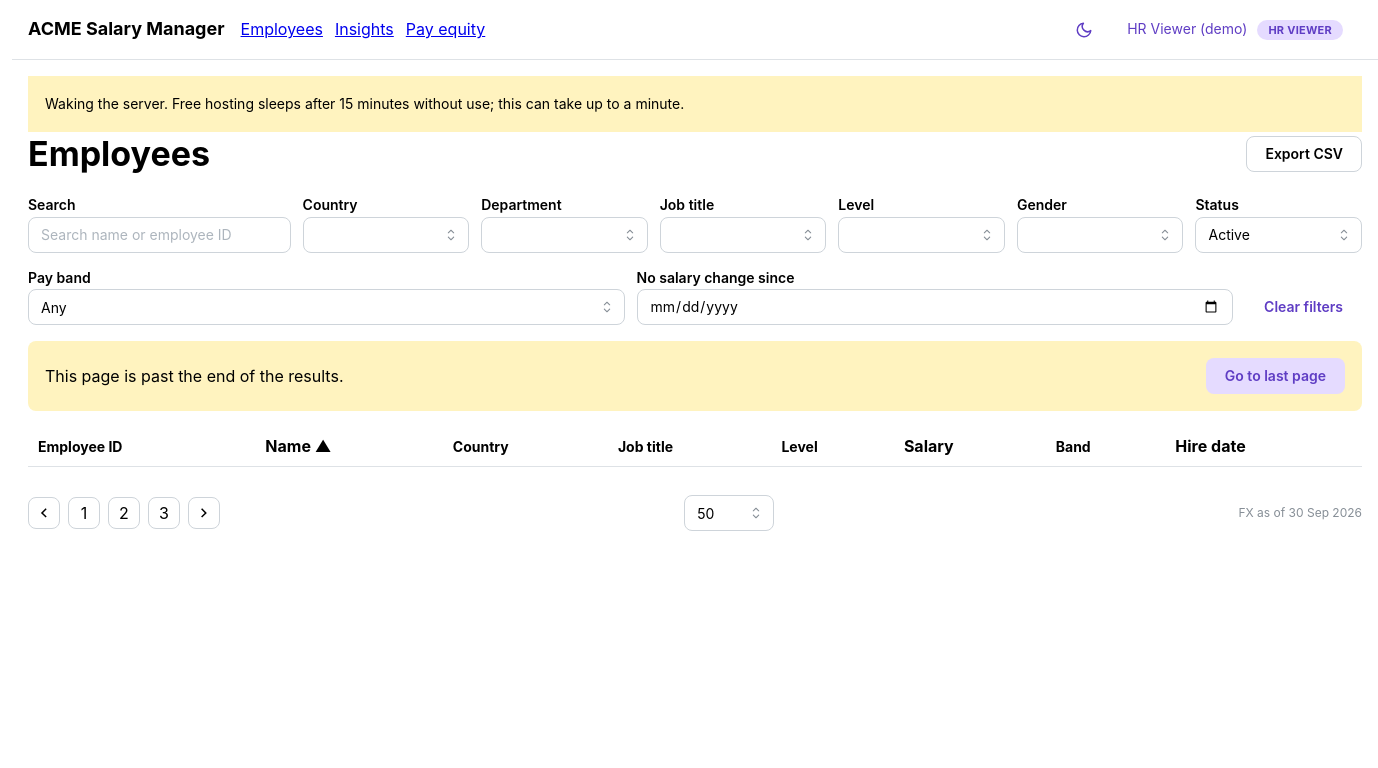
Scenario: employee list page (04 section 8.5) › shows the past-the-end notice with a link to the last page
This screenshot has width=1378, height=768.
Check: the text "This page is past the end of the results." is shown, box 45,364 -> 344,389
Click the button "Go to last page".
click(1275, 376)  # box 1206,358 -> 1345,394
(page scrolled)
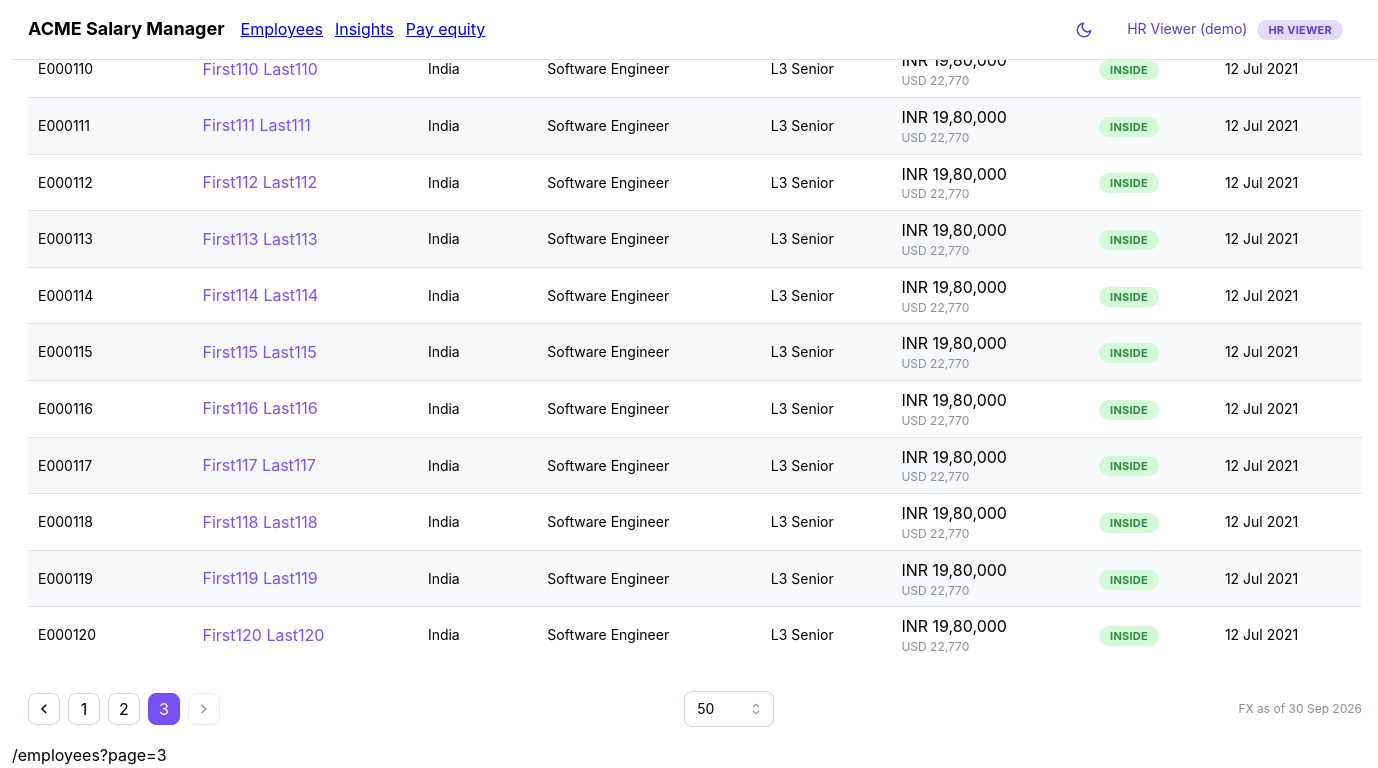
Check: the text named "location" reads "/employees?page=3", box 12,745 -> 167,765
Check: the text "This page is past the end of the results." is gone
